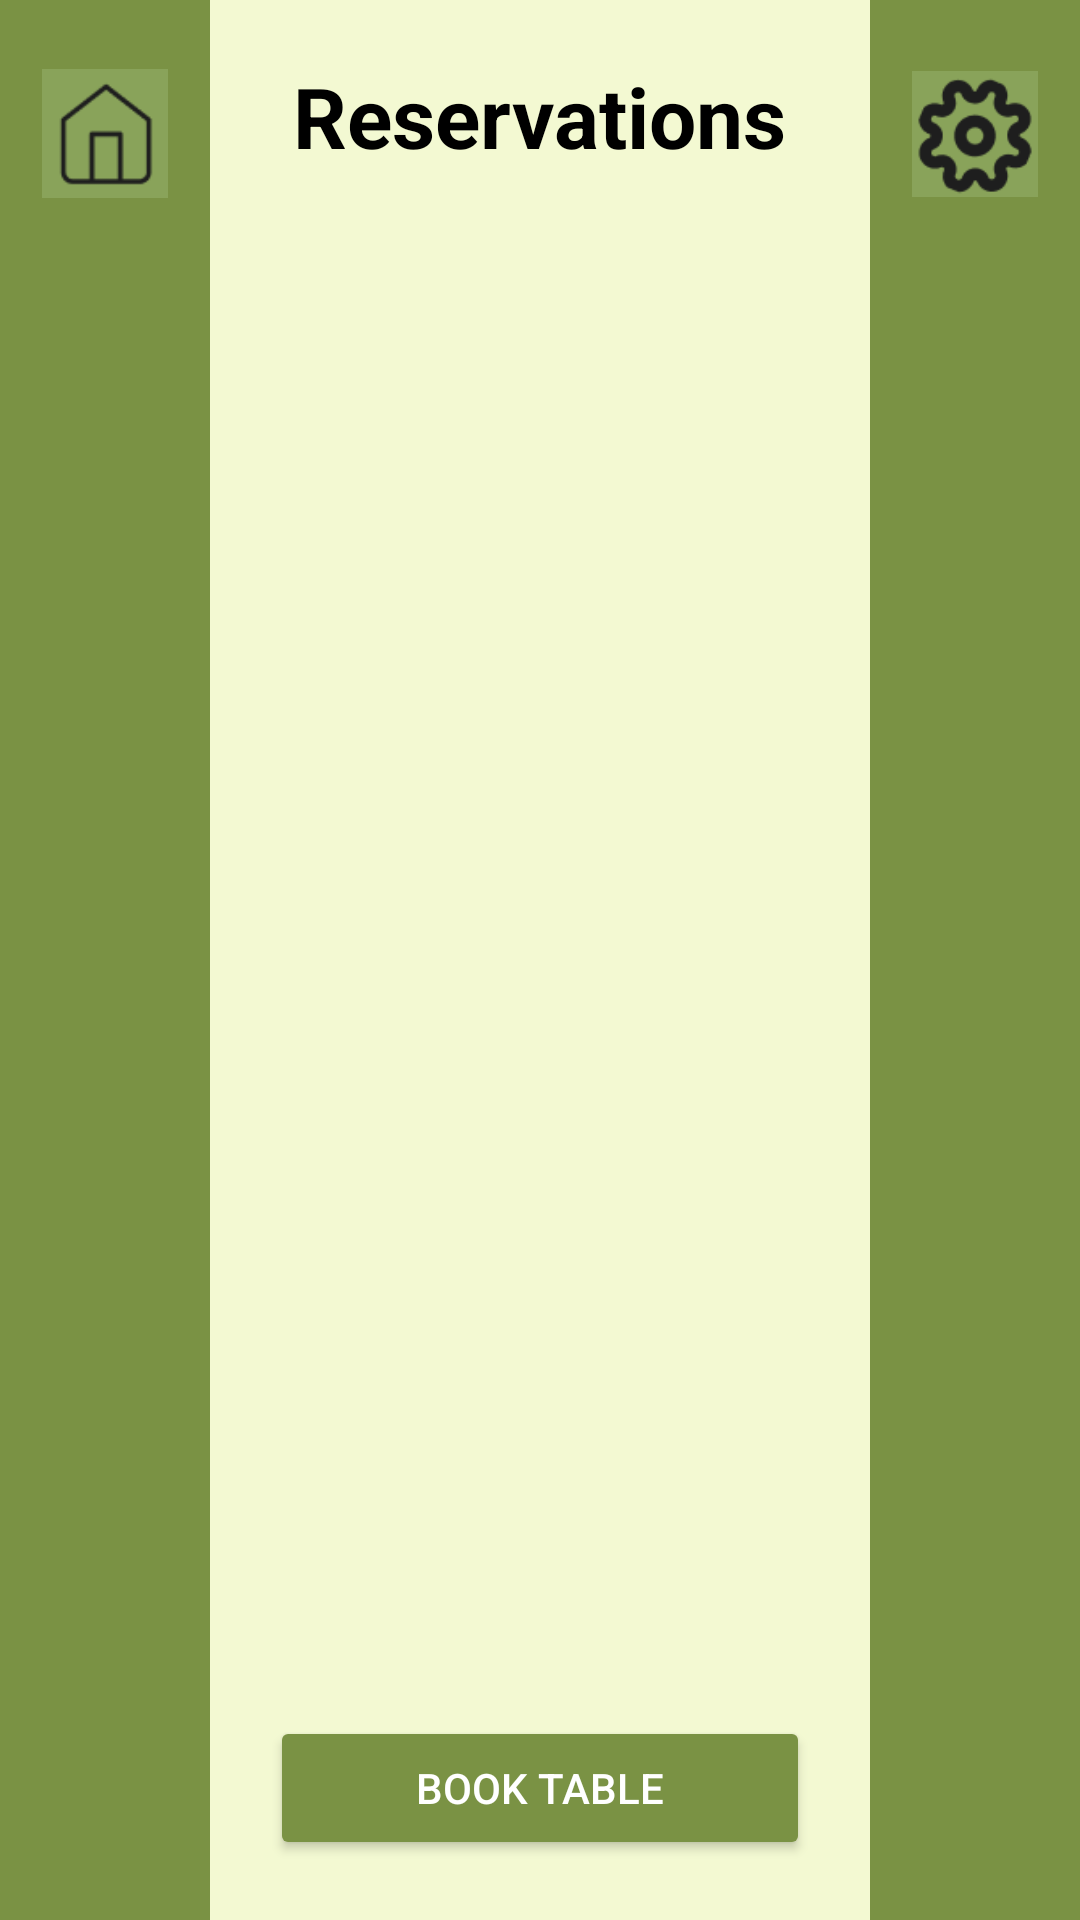

Icon click points for this 1080px×1920px phone screenshot, format [x,y]:
home: [105,133]
settings: [975,136]
